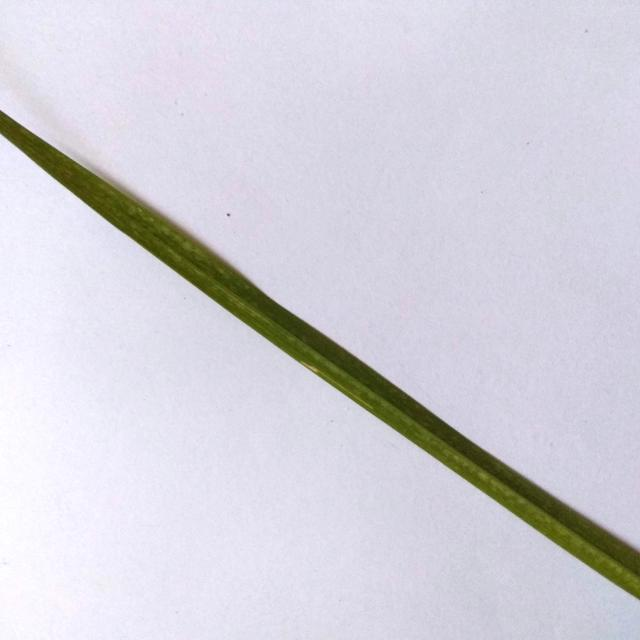Rice_Healthy: (0, 112, 640, 598)
